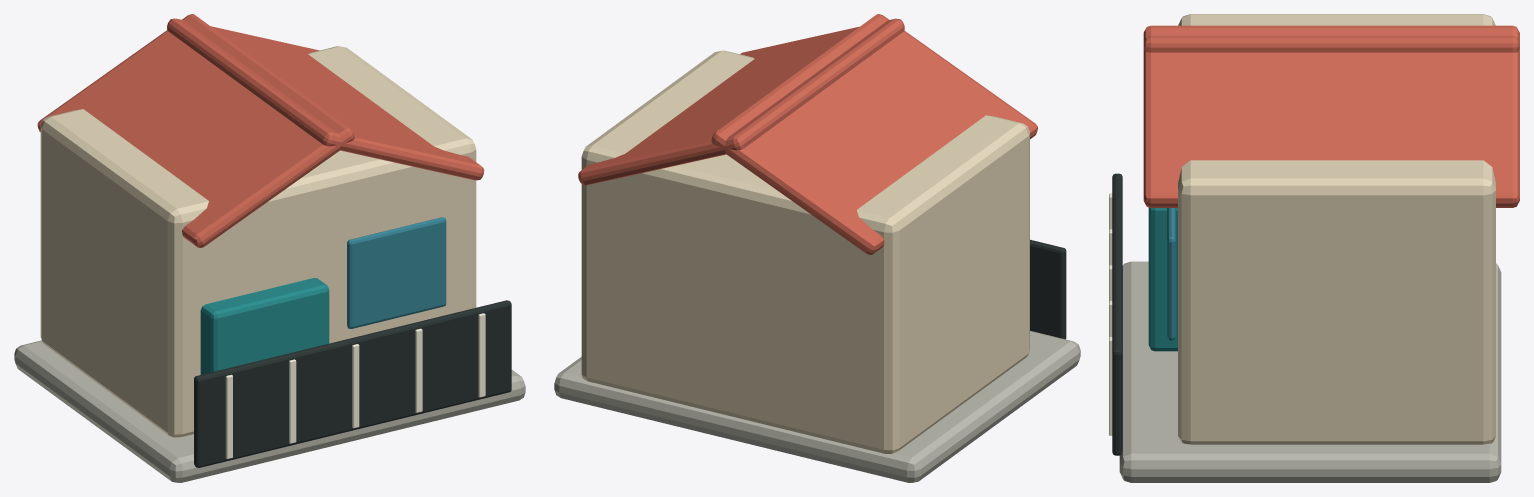
The model's file is landed-bg-v2.glb.
3 views of the same model, side by side, from view 1: azimuth 30°, elevation 25°; view 2: azimuth 150°, elevation 25°; view 3: azimuth 270°, elevation 25° (orthographic). The views are drawn at different scales.
Parts seen in each view (by area): view 1: BACKGROUND LANDED HOME FAMILY · Warm plaster, BACKGROUND LANDED HOME FAMILY · Terracotta, BACKGROUND LANDED HOME FAMILY · Ink, BACKGROUND LANDED HOME FAMILY · Concrete, BACKGROUND LANDED HOME FAMILY · Graphic glass, BACKGROUND LANDED HOME FAMILY · Deep teal, BACKGROUND LANDED HOME FAMILY · Chalk; view 2: BACKGROUND LANDED HOME FAMILY · Warm plaster, BACKGROUND LANDED HOME FAMILY · Terracotta, BACKGROUND LANDED HOME FAMILY · Concrete, BACKGROUND LANDED HOME FAMILY · Ink; view 3: BACKGROUND LANDED HOME FAMILY · Warm plaster, BACKGROUND LANDED HOME FAMILY · Terracotta, BACKGROUND LANDED HOME FAMILY · Concrete, BACKGROUND LANDED HOME FAMILY · Deep teal, BACKGROUND LANDED HOME FAMILY · Ink, BACKGROUND LANDED HOME FAMILY · Graphic glass, BACKGROUND LANDED HOME FAMILY · Chalk.
Boxes of the visible parts, box(x1,y1,x2,y2) form: BACKGROUND LANDED HOME FAMILY · Warm plaster: box(40, 46, 476, 437); BACKGROUND LANDED HOME FAMILY · Terracotta: box(37, 14, 484, 247); BACKGROUND LANDED HOME FAMILY · Ink: box(194, 300, 511, 467); BACKGROUND LANDED HOME FAMILY · Concrete: box(14, 340, 525, 482); BACKGROUND LANDED HOME FAMILY · Graphic glass: box(347, 217, 446, 328); BACKGROUND LANDED HOME FAMILY · Deep teal: box(200, 278, 329, 374); BACKGROUND LANDED HOME FAMILY · Chalk: box(225, 313, 485, 459); BACKGROUND LANDED HOME FAMILY · Warm plaster: box(581, 50, 1029, 453); BACKGROUND LANDED HOME FAMILY · Terracotta: box(578, 14, 1037, 254); BACKGROUND LANDED HOME FAMILY · Concrete: box(554, 331, 1080, 482); BACKGROUND LANDED HOME FAMILY · Ink: box(1030, 239, 1066, 339); BACKGROUND LANDED HOME FAMILY · Warm plaster: box(1178, 14, 1495, 444); BACKGROUND LANDED HOME FAMILY · Terracotta: box(1143, 25, 1519, 207); BACKGROUND LANDED HOME FAMILY · Concrete: box(1119, 261, 1501, 482); BACKGROUND LANDED HOME FAMILY · Deep teal: box(1148, 207, 1177, 351); BACKGROUND LANDED HOME FAMILY · Ink: box(1112, 173, 1122, 455); BACKGROUND LANDED HOME FAMILY · Graphic glass: box(1167, 208, 1175, 340); BACKGROUND LANDED HOME FAMILY · Chalk: box(1109, 193, 1112, 435).
Bounding box in the file's own units: 4.5 × 3.69 × 3.88.
